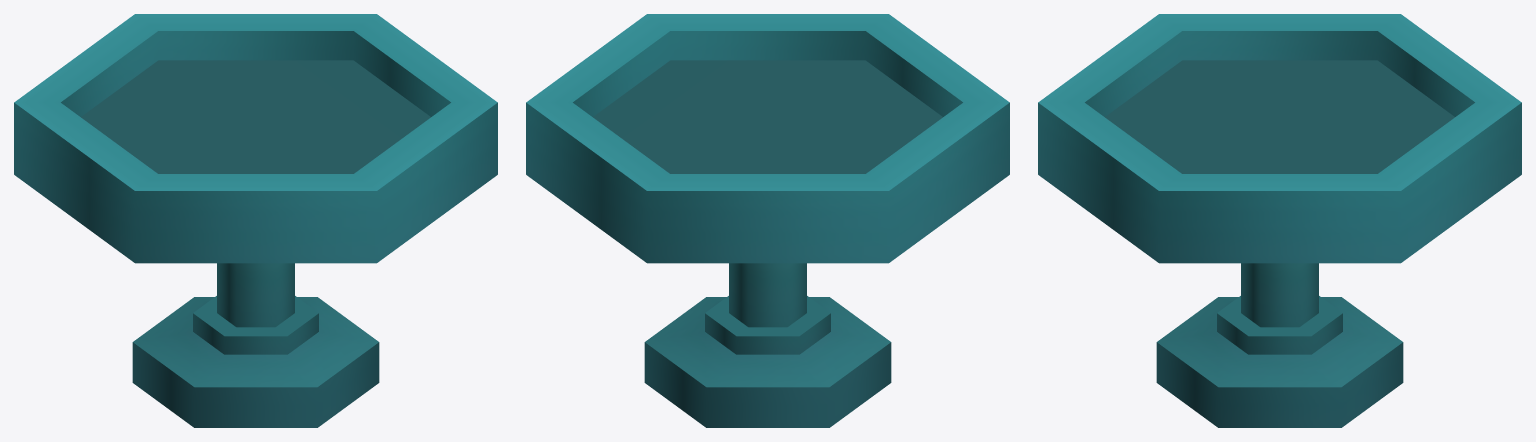
Rendered from FoodProp_1_G.fbx.
3 renders of one model, left to right at view 1: azimuth 30°, elevation 25°; view 2: azimuth 150°, elevation 25°; view 3: azimuth 270°, elevation 25°, orthographic.
Parts seen in each view (by area): view 1: FoodProp_1_G; view 2: FoodProp_1_G; view 3: FoodProp_1_G.
Part boxes in pixels (x1=…): FoodProp_1_G: x1=14, y1=14, x2=497, y2=427; FoodProp_1_G: x1=526, y1=14, x2=1009, y2=427; FoodProp_1_G: x1=1038, y1=14, x2=1521, y2=427.
Bounding box in the file's own units: 49.95 × 36.88 × 57.67.
